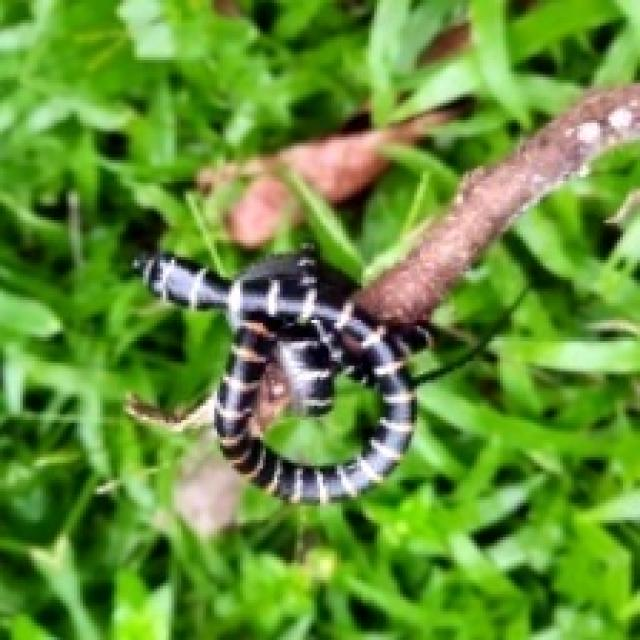paradise tree snake: (146, 251, 423, 500)
